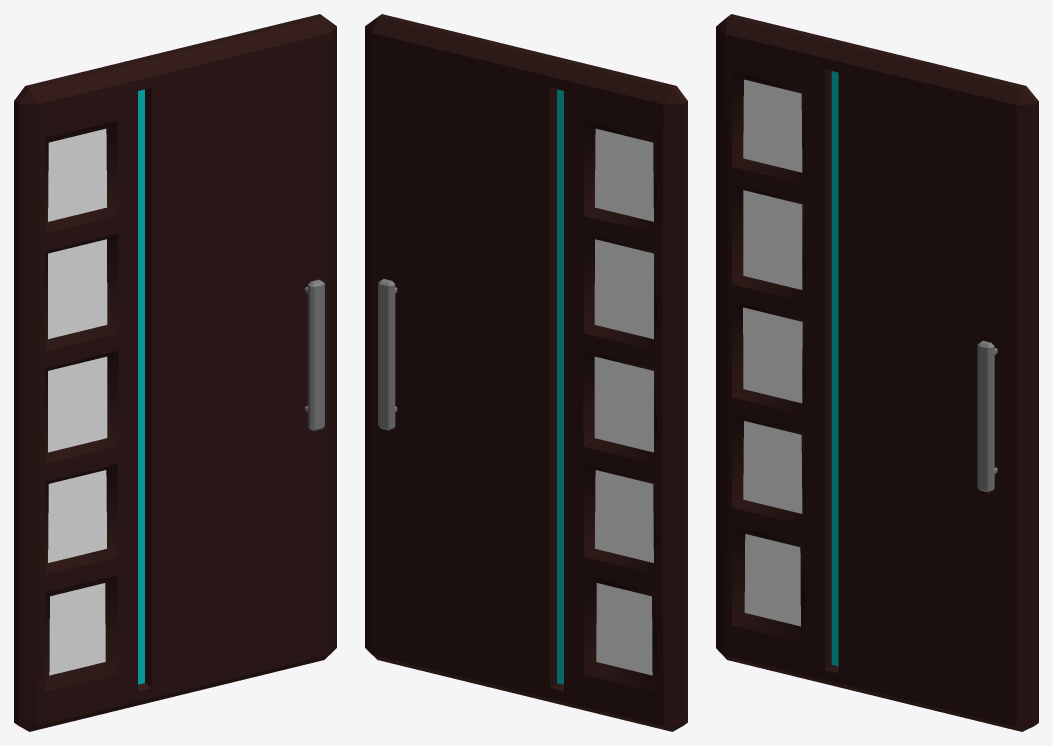
File: PorteRiche1.fbx
3 renders of one model, left to right at view 1: azimuth 30°, elevation 25°; view 2: azimuth 150°, elevation 25°; view 3: azimuth 330°, elevation 25°, orthographic.
Visible parts, largest first — view 1: polySurface210; view 2: polySurface210; view 3: polySurface210.
Part boxes in pixels (left/top/right/bottom): polySurface210: left=14, top=14, right=336, bottom=731; polySurface210: left=365, top=14, right=687, bottom=731; polySurface210: left=716, top=14, right=1038, bottom=731.
Bounding box in the file's own units: 103 × 198 × 20.47.
